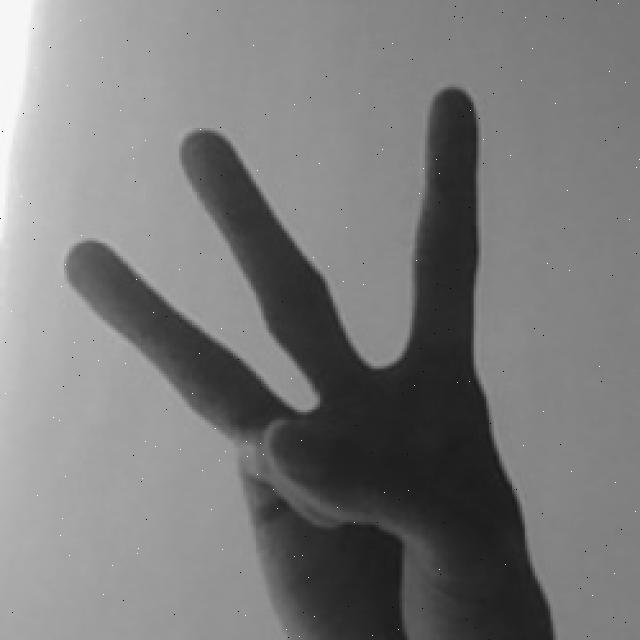W: (58, 78, 558, 640)
